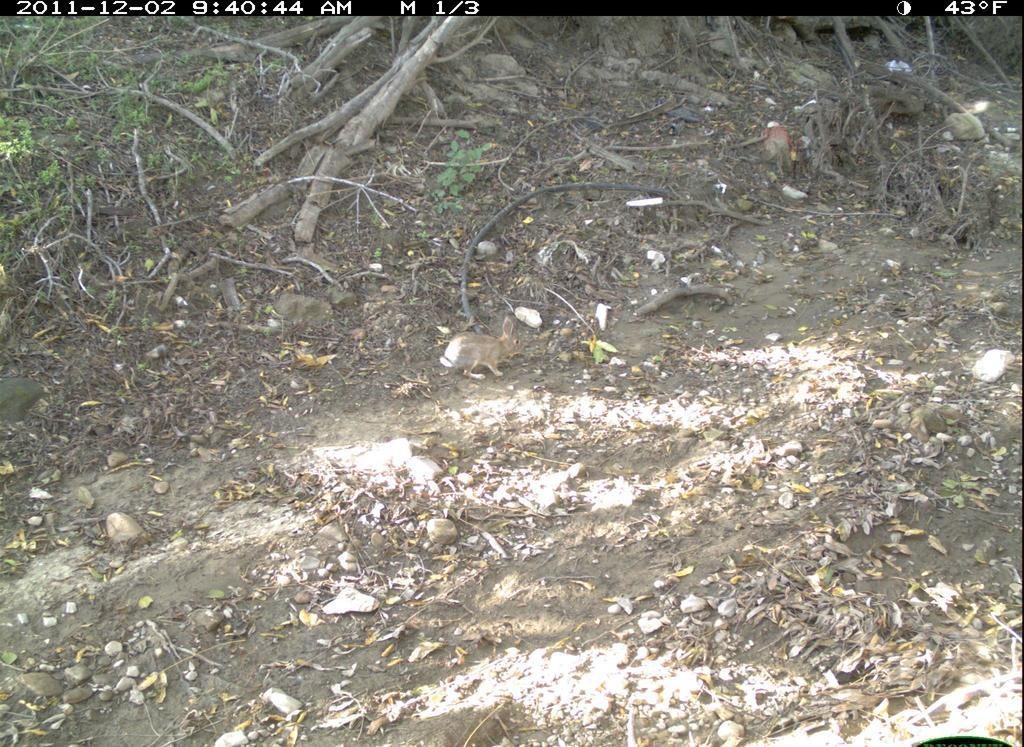rabbit: (434, 313, 532, 387)
